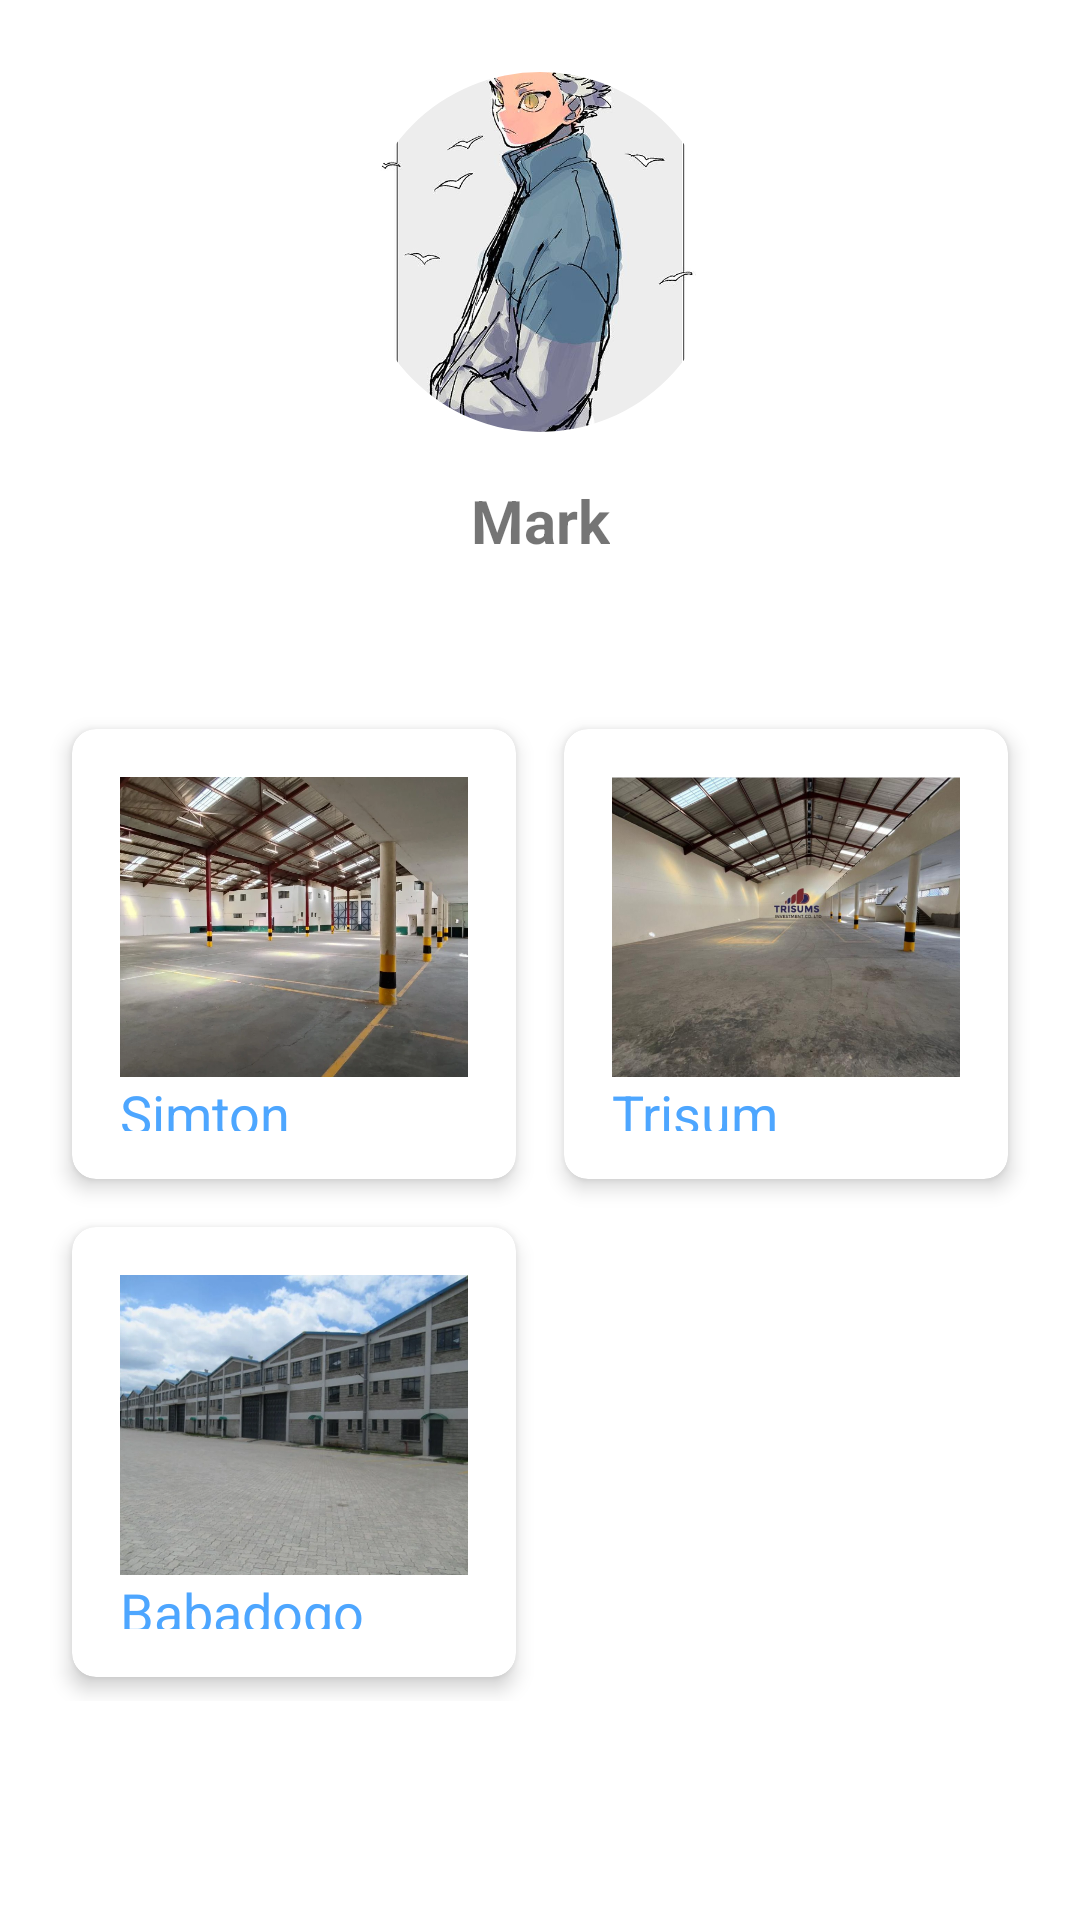

Icons on this 1080×1920 Android screen, each with its box as (x1,y1,x2,y2):
Profile Image: (381,72,696,432)
